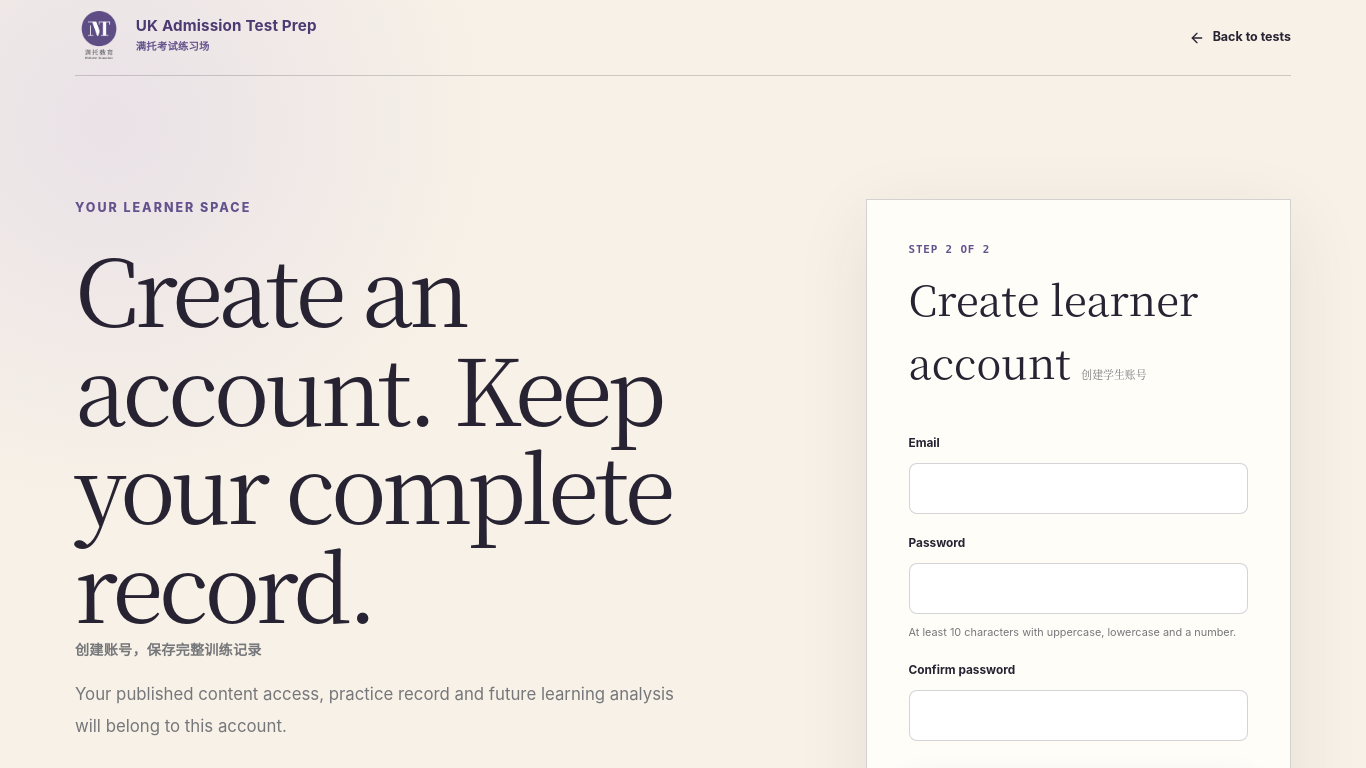
invite-first account access flow › redeems the pending invite immediately when registration returns a session
This screenshot has width=1366, height=768.
Type "student@example.com" into the field labelled "Email" at x=1078, y=488, box [908, 463, 1248, 514]
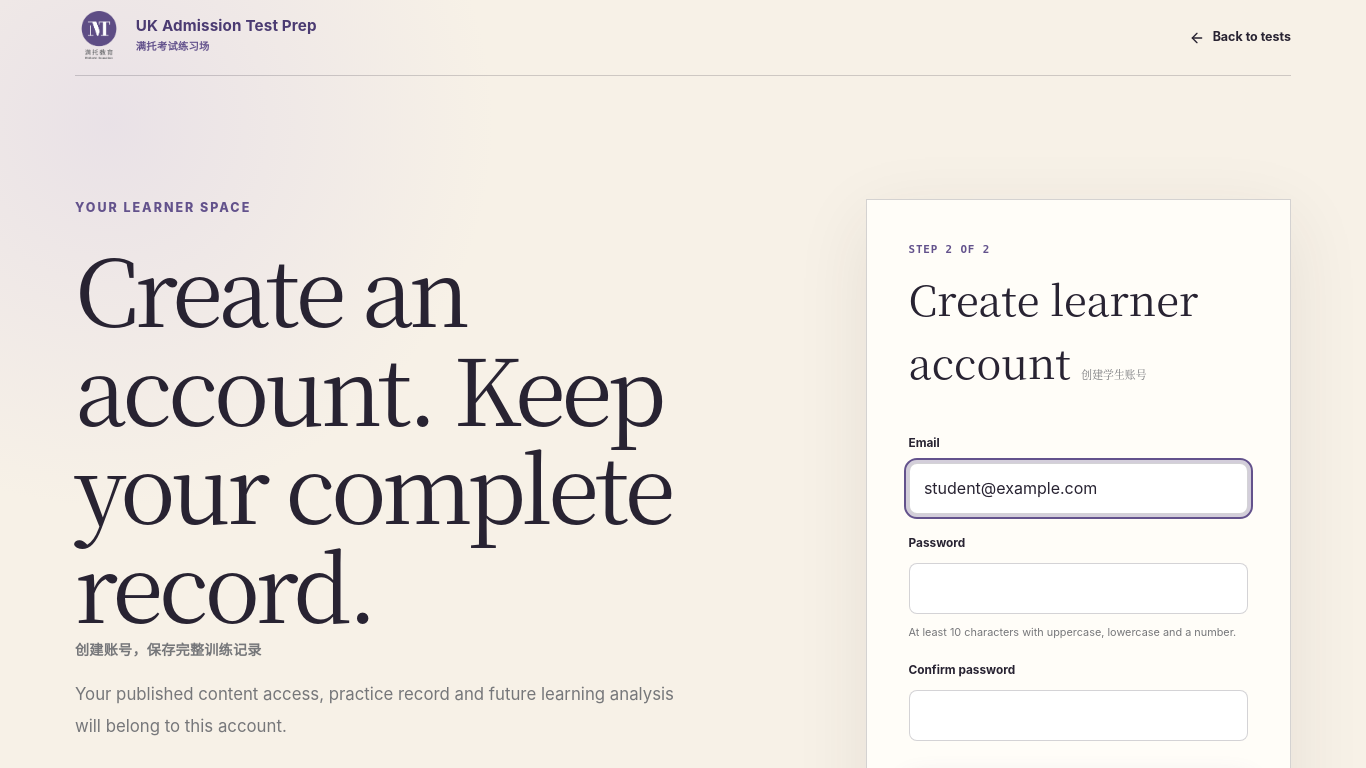
Type "SecurePass1" into the password field labelled "Password" at x=1078, y=588, box [908, 563, 1248, 614]
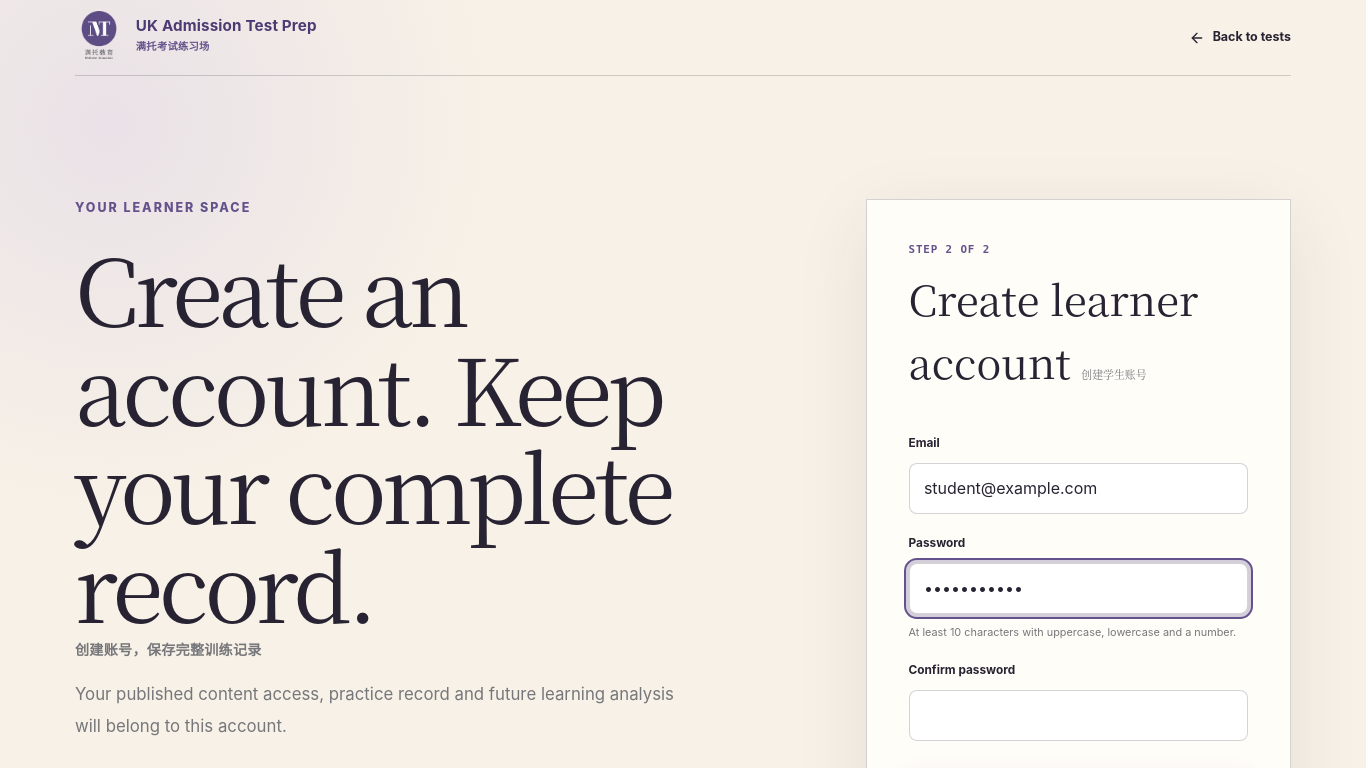
Type "SecurePass1" into the password field labelled "Confirm password" at x=1078, y=716, box [908, 690, 1248, 742]
(page scrolled)
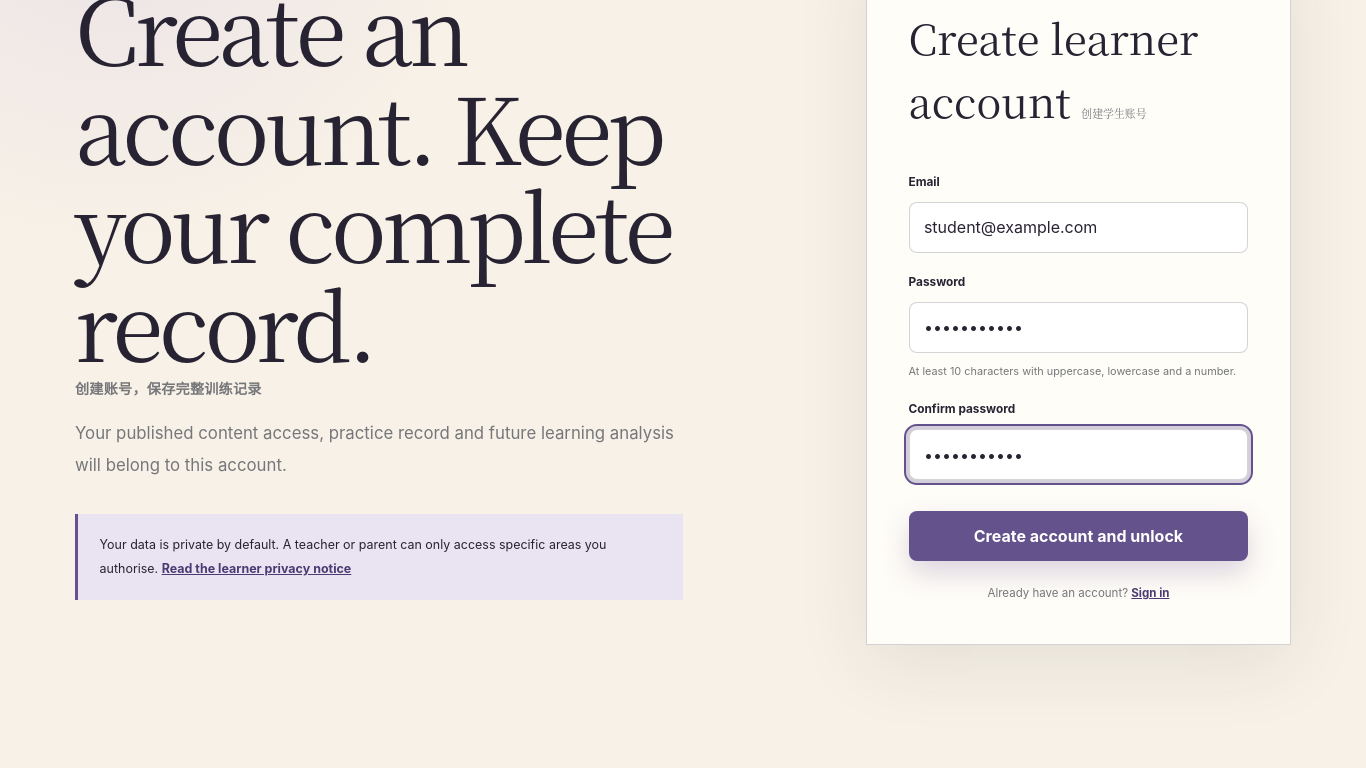
Click the button "Create account and unlock" at x=1078, y=536, box [908, 511, 1248, 561]
(page scrolled)
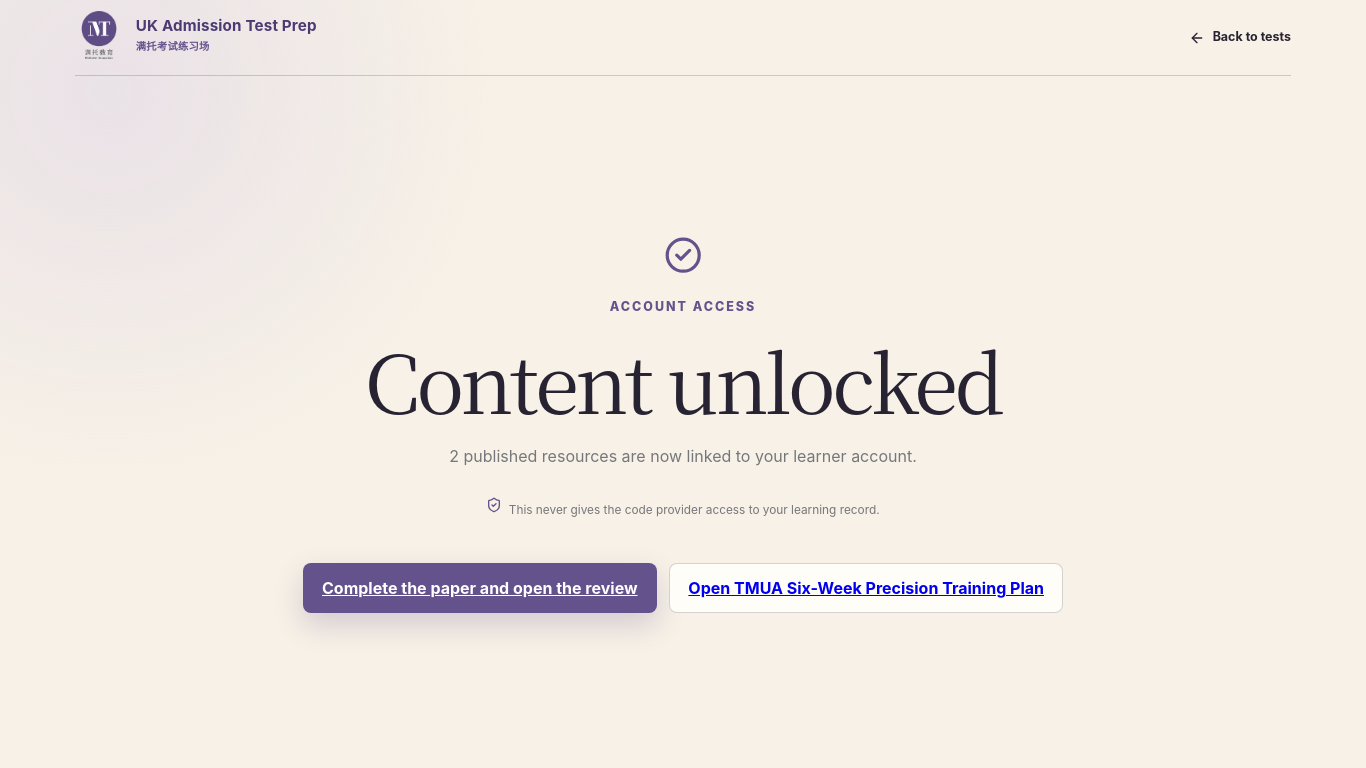
Expected: the heading "Content unlocked" is shown, [365, 322, 1001, 437]
